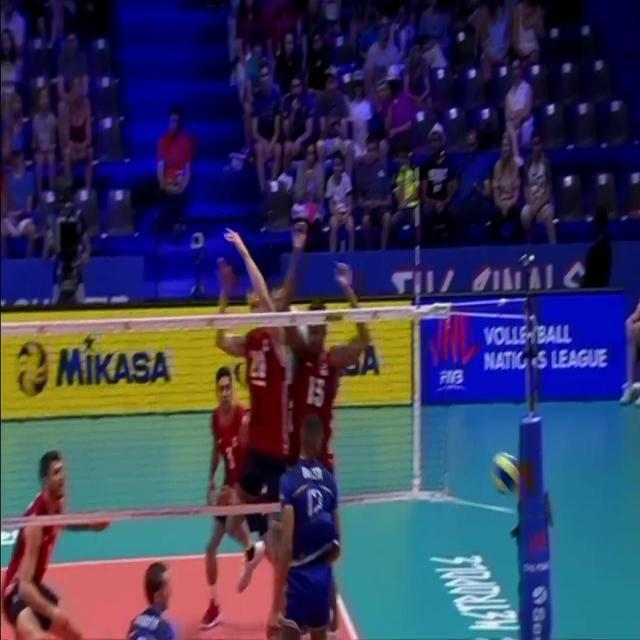volleyball: (490, 454, 522, 496)
